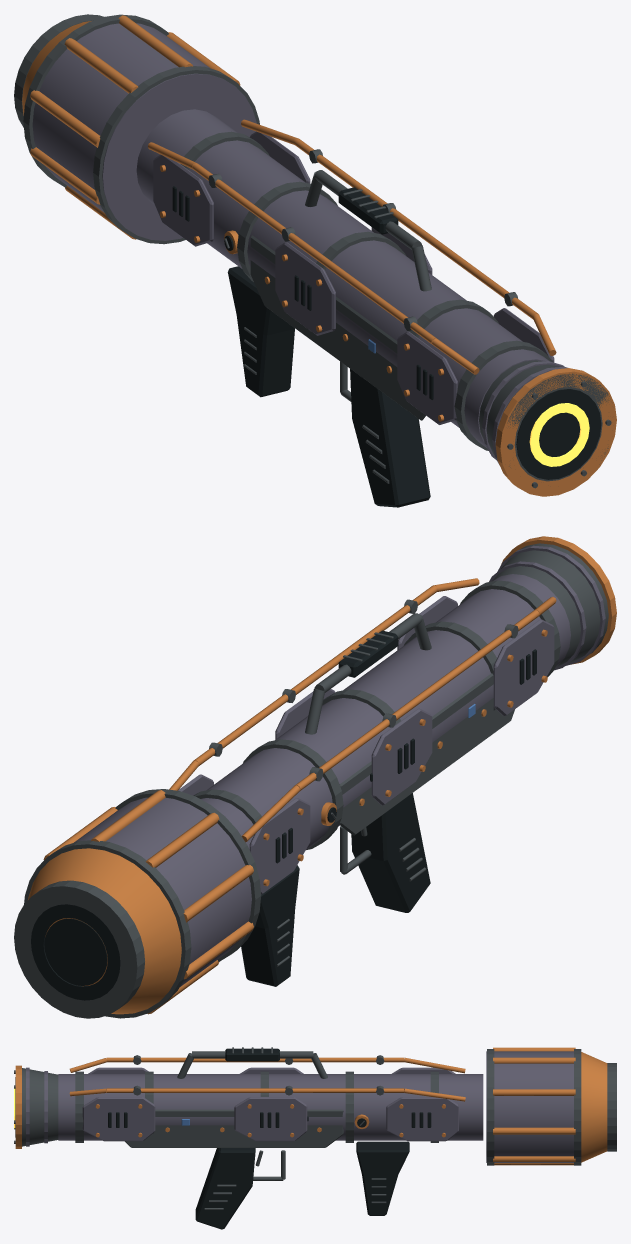
File: heavy_2.glb
3 views of the same model, one above another, from view 1: azimuth 30°, elevation 25°; view 2: azimuth 150°, elevation 25°; view 3: azimuth 270°, elevation 25° (orthographic). The views are drawn at different scales.
Parts seen in each view (by area): view 1: Weapon_heavy_v1; view 2: Weapon_heavy_v1; view 3: Weapon_heavy_v1.
Part boxes in pixels (x1,y1,x2,y2): Weapon_heavy_v1: (14, 14, 616, 507); Weapon_heavy_v1: (14, 536, 616, 1018); Weapon_heavy_v1: (14, 1047, 616, 1229).
Bounding box in the file's own units: 0.195 × 0.318 × 0.993.
